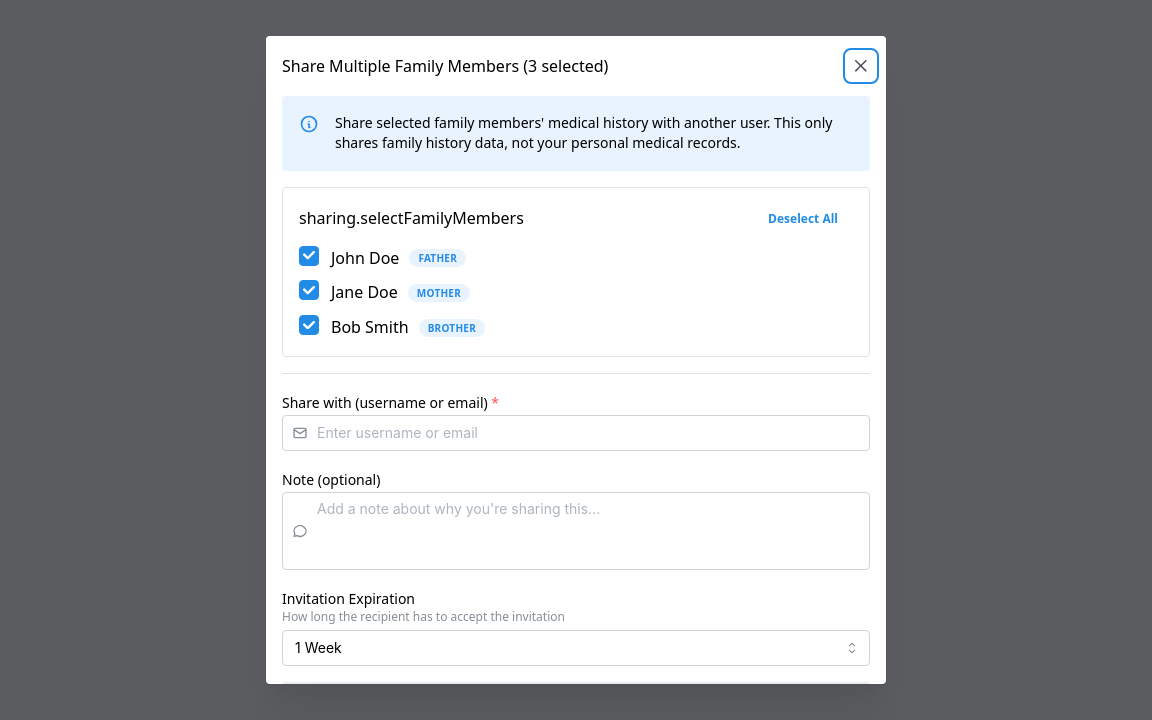
Test case: FamilyHistorySharingModal Component › Bulk Mode - Family Member Selection › should handle select all / deselect all functionality
This screenshot has width=1152, height=720.
Step 1. Click the button "Deselect All" → x=803, y=219, box [753,204,853,234]
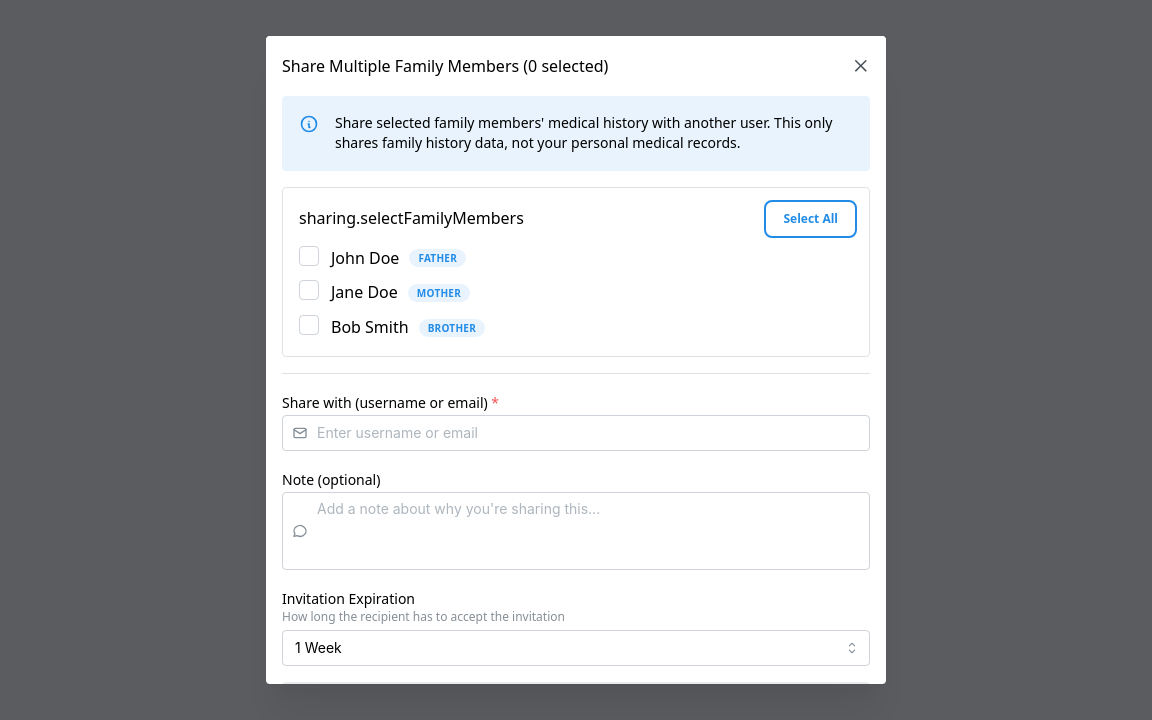
Check: the checkbox labelled "John Doe father" is not checked, box [299,246,319,266]
Check: the checkbox labelled "Jane Doe mother" is not checked, box [299,280,319,300]
Check: the checkbox labelled "Bob Smith brother" is not checked, box [299,315,319,335]
Step 2. Click the button "Select All" → x=811, y=219, box [768,204,853,234]
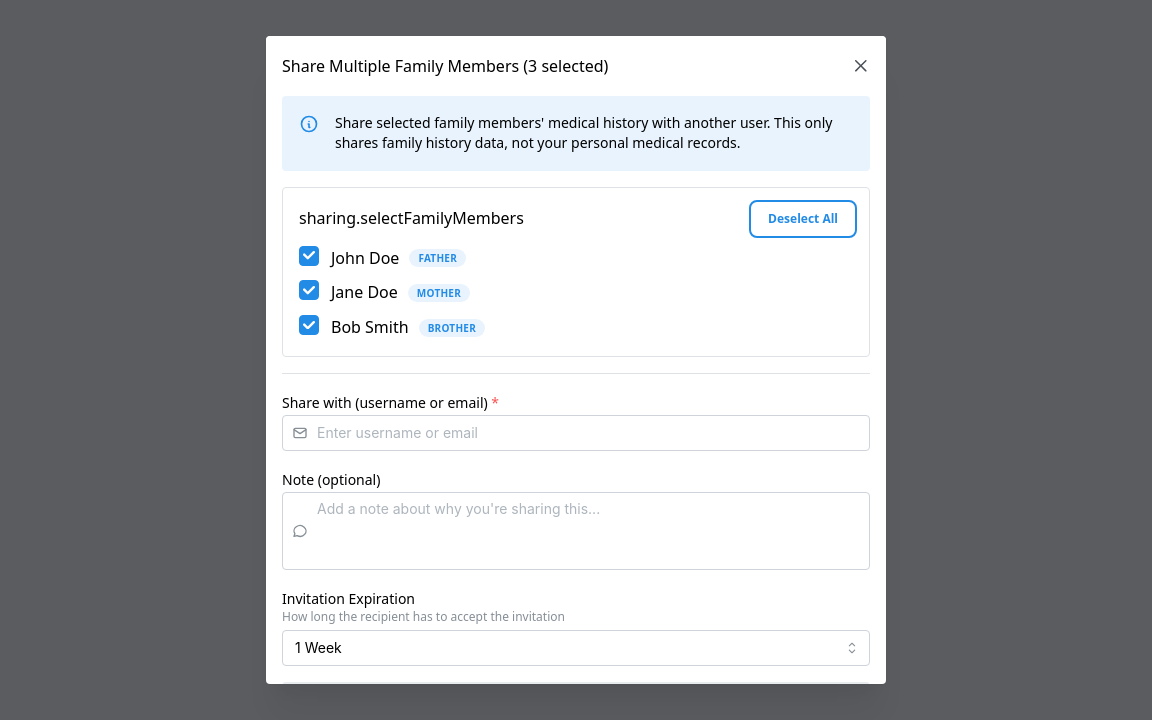
Check: the checkbox labelled "John Doe father" is checked, box [299,246,319,266]
Check: the checkbox labelled "Jane Doe mother" is checked, box [299,280,319,300]
Check: the checkbox labelled "Bob Smith brother" is checked, box [299,315,319,335]
